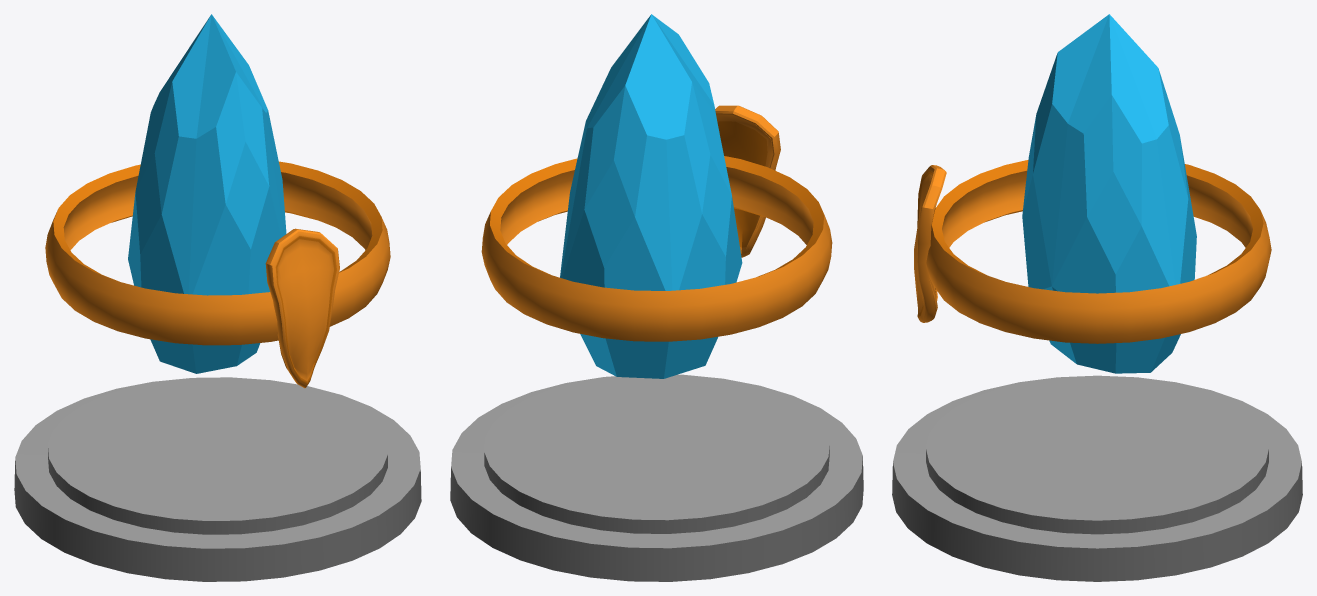
The model's file is Ice Tower Lv1.fbx.
3 views of the same model, side by side, from view 1: azimuth 30°, elevation 25°; view 2: azimuth 150°, elevation 25°; view 3: azimuth 270°, elevation 25° (orthographic).
Parts seen in each view (by area): view 1: Ice Tower Lv1, Crystal lv1, Ring Lv1; view 2: Ice Tower Lv1, Crystal lv1, Ring Lv1; view 3: Ice Tower Lv1, Crystal lv1, Ring Lv1.
Boxes of the visible parts, bbox=[...] form: Ice Tower Lv1: bbox=[14, 377, 421, 581]; Crystal lv1: bbox=[128, 14, 286, 373]; Ring Lv1: bbox=[45, 161, 390, 388]; Ice Tower Lv1: bbox=[450, 374, 863, 581]; Crystal lv1: bbox=[560, 14, 742, 378]; Ring Lv1: bbox=[481, 105, 832, 341]; Ice Tower Lv1: bbox=[892, 375, 1302, 581]; Crystal lv1: bbox=[1022, 14, 1196, 373]; Ring Lv1: bbox=[914, 160, 1271, 343].
Bounding box in the file's own units: 277 × 358 × 277.
